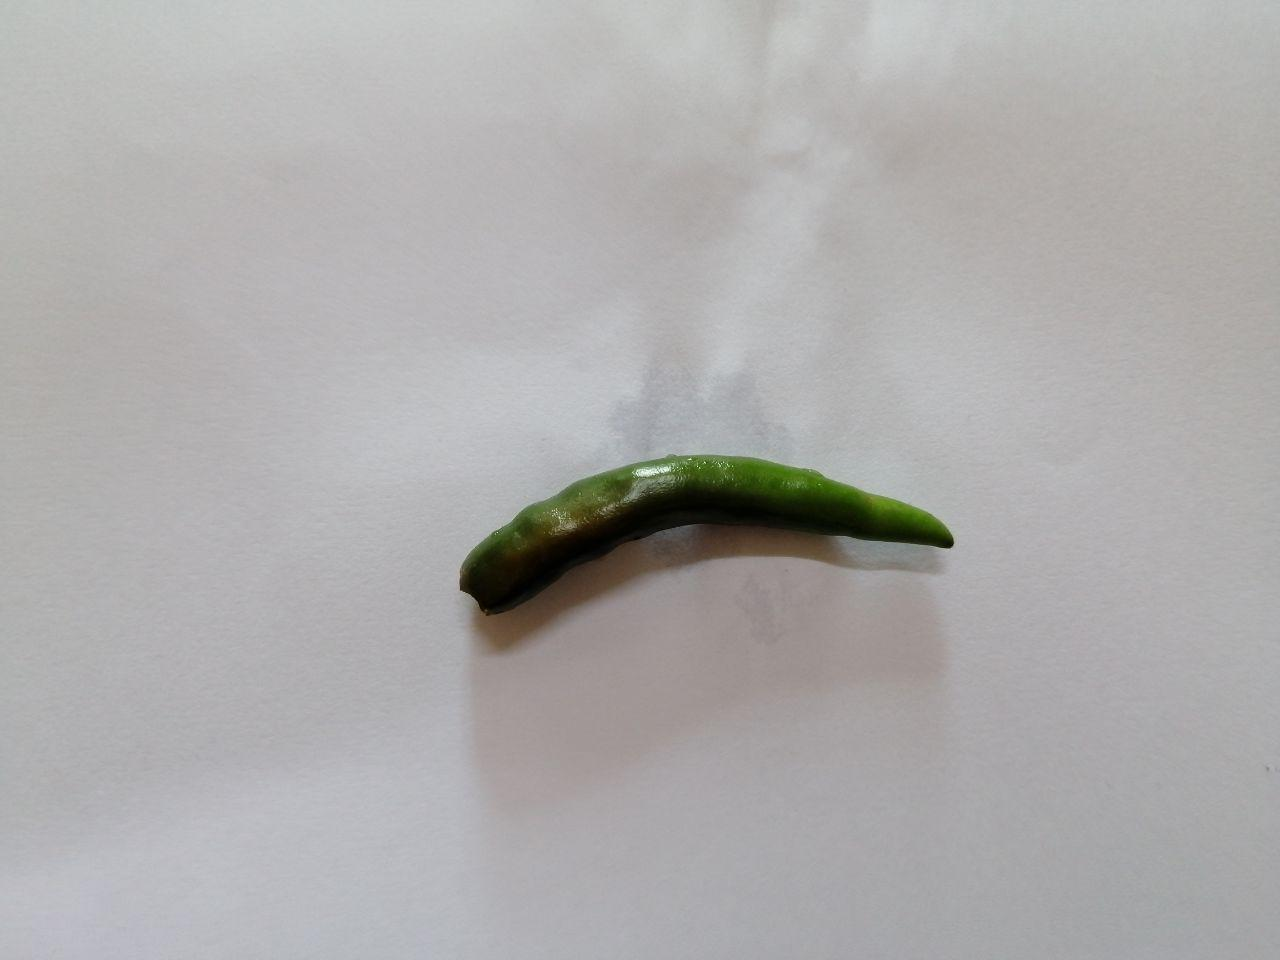lada hijau: (440, 434, 984, 639)
